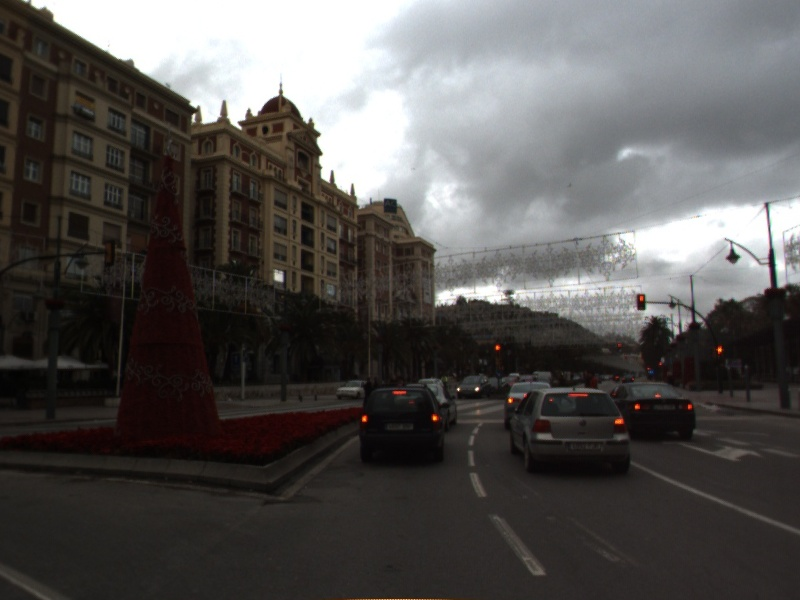STRAIGHT_RIGHT: (660, 436, 767, 464)
